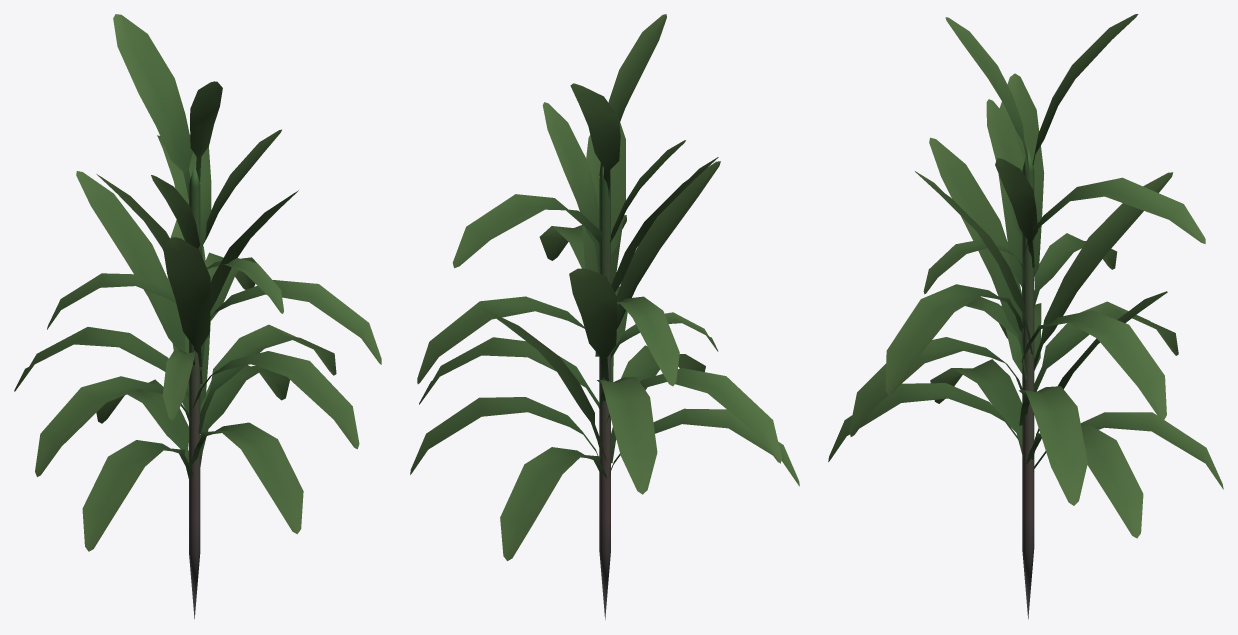
Rendered from plants-leafy-plants-dragon-plant_v2.glb.
The picture shows the model from 3 angles, left to right: view 1: azimuth 30°, elevation 25°; view 2: azimuth 150°, elevation 25°; view 3: azimuth 270°, elevation 25°; orthographic projection. The views are drawn at different scales.
Parts seen in each view (by area): view 1: Dragon Plant_v2; view 2: Dragon Plant_v2; view 3: Dragon Plant_v2.
Part boxes in pixels (left/top/right/bottom): Dragon Plant_v2: left=14, top=14, right=381, bottom=618; Dragon Plant_v2: left=410, top=14, right=799, bottom=619; Dragon Plant_v2: left=828, top=14, right=1223, bottom=619.
Size of the model in its own units: 0.4763 by 0.8 by 0.4828.
